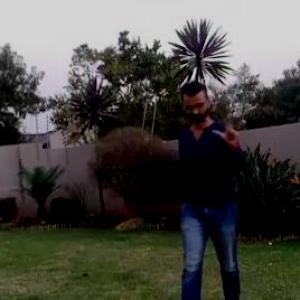land_hand: (209, 109, 244, 152)
